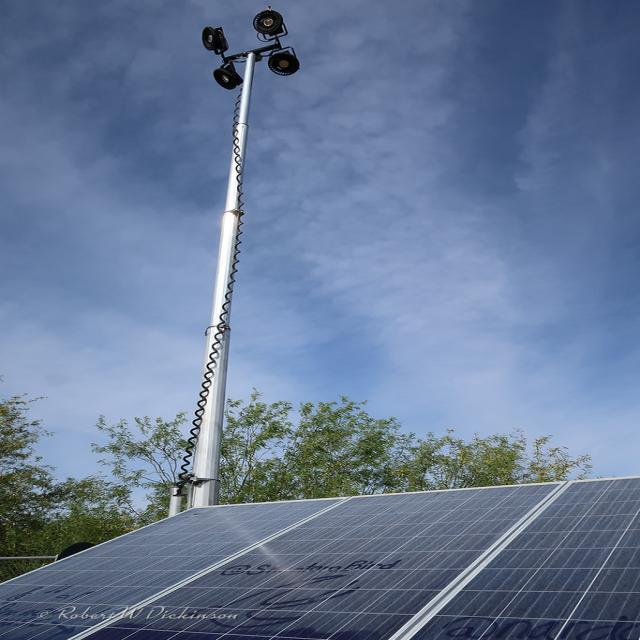dust-solar-panel: (0, 479, 640, 640)
